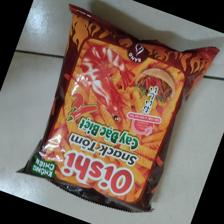Oishi_Cay: (13, 3, 220, 216)
